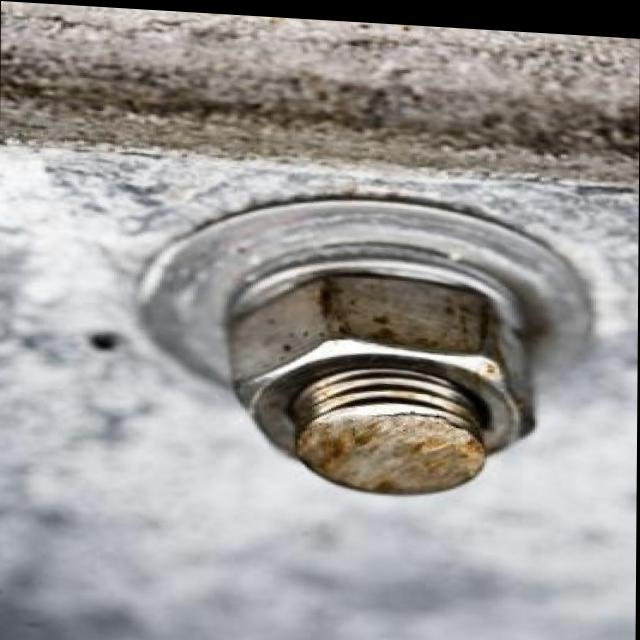Rusty bolt: (231, 264, 538, 489)
